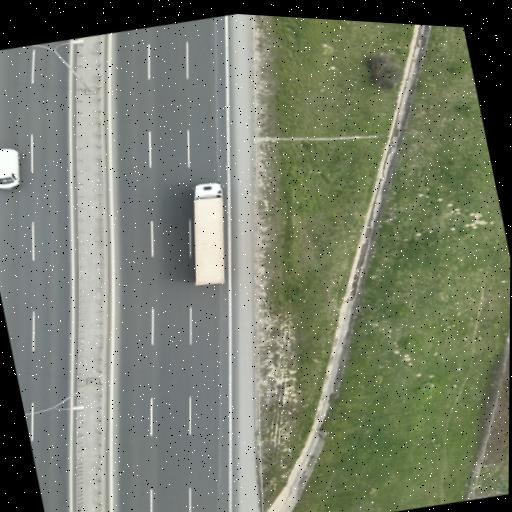car: (0, 149, 19, 189)
truck: (193, 183, 224, 285)
